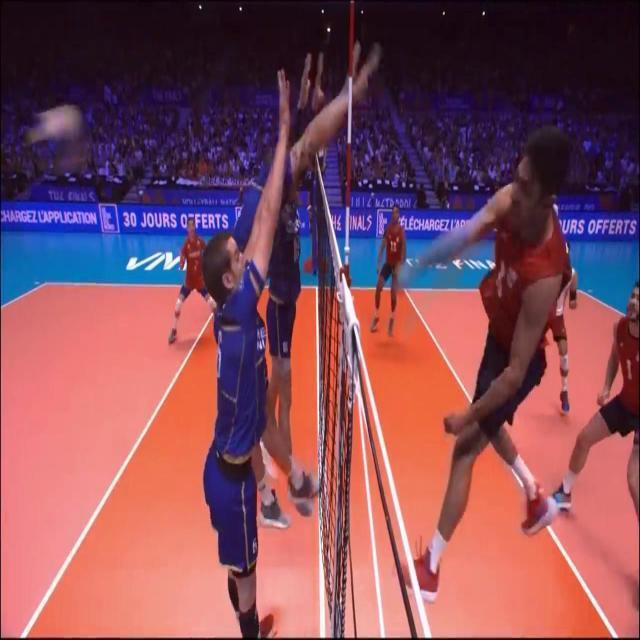volleyball: (30, 104, 90, 172)
